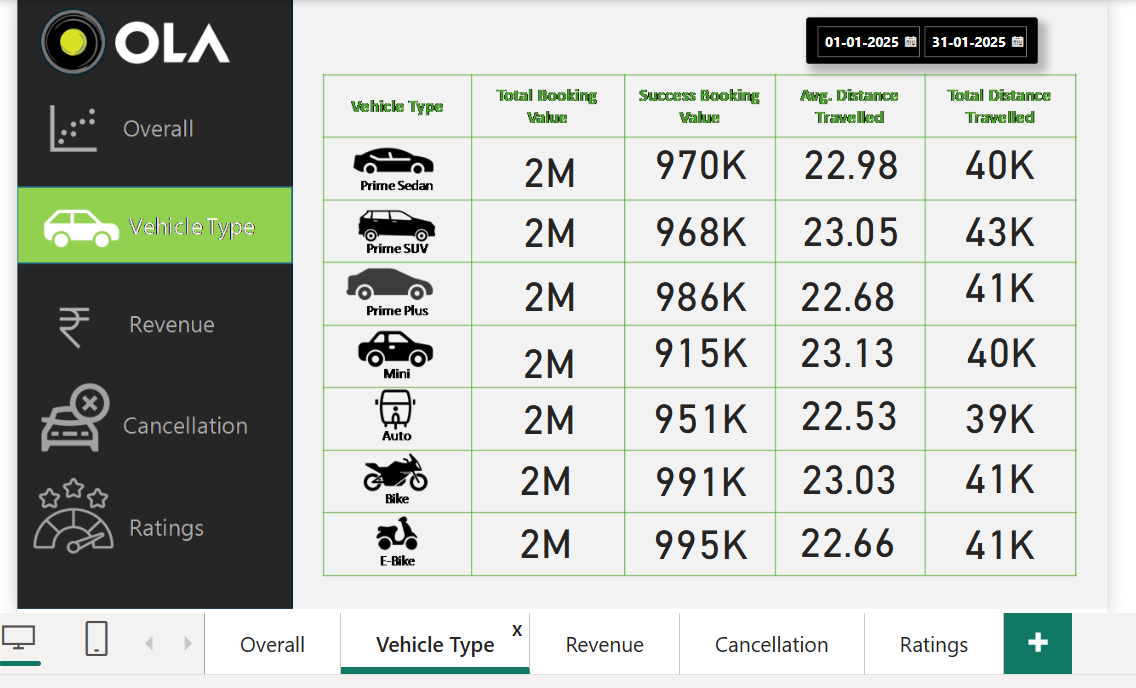

The dashboard page shown, as its layout file describes it:
{"tool":"powerbi","page":{"name":"Vehicle Type","canvas":[1280,720],"ordinal":1},"visuals":[{"type":"actionButton","box":[0,106.9,324.9,90.5],"z":0},{"type":"actionButton","box":[0,341.3,324.9,90.5],"z":1000},{"type":"actionButton","box":[0,446.2,324.9,90.5],"z":2000},{"type":"actionButton","box":[0,565.5,324.9,90.5],"z":3000},{"type":"card","fields":{"Values":["Sum(January.Booking_Value)"]},"box":[544,164,162,66],"z":4000},{"type":"card","fields":{"Values":["Sum(January.Booking_Value)"]},"box":[544,244,162,66],"z":5000},{"type":"card","fields":{"Values":["Sum(January.Booking_Value)"]},"box":[544,320,162,66],"z":6000},{"type":"card","fields":{"Values":["Sum(January.Booking_Value)"]},"box":[550,398,152,66],"z":7000},{"type":"card","fields":{"Values":["Sum(January.Booking_Value)"]},"box":[544,536,152,66],"z":8000},{"type":"card","fields":{"Values":["Sum(January.Booking_Value)"]},"box":[544,610,152,66],"z":9000},{"type":"card","fields":{"Values":["Sum(January.Booking_Value)"]},"box":[550,464,152,66],"z":10000},{"type":"card","fields":{"Values":["Sum(January.Booking_Value)"]},"box":[734,166,138,64],"z":11000},{"type":"card","fields":{"Values":["Sum(January.Booking_Value)"]},"box":[734,386,138,64],"z":12000},{"type":"card","fields":{"Values":["Sum(January.Booking_Value)"]},"box":[734,464,138,64],"z":13000},{"type":"card","fields":{"Values":["Sum(January.Booking_Value)"]},"box":[734,538,138,64],"z":14000},{"type":"card","fields":{"Values":["Sum(January.Booking_Value)"]},"box":[734,612,138,64],"z":15000},{"type":"card","fields":{"Values":["Sum(January.Booking_Value)"]},"box":[734,320,138,64],"z":16000},{"type":"card","fields":{"Values":["Sum(January.Booking_Value)"]},"box":[734,244,138,64],"z":17000},{"type":"card","fields":{"Values":["Avg(January.Ride_Distance)"]},"box":[904,320,142,64],"z":18000},{"type":"card","fields":{"Values":["Avg(January.Ride_Distance)"]},"box":[904,386,142,64],"z":19000},{"type":"card","fields":{"Values":["Avg(January.Ride_Distance)"]},"box":[906,460,142,64],"z":20000},{"type":"card","fields":{"Values":["Avg(January.Ride_Distance)"]},"box":[906,536,142,64],"z":21000},{"type":"card","fields":{"Values":["Avg(January.Ride_Distance)"]},"box":[904,610,142,64],"z":22000},{"type":"card","fields":{"Values":["Sum(January.Ride_Distance)"]},"box":[1084,166,142,64],"z":23000},{"type":"card","fields":{"Values":["Avg(January.Ride_Distance)"]},"box":[908,244,142,64],"z":24000},{"type":"card","fields":{"Values":["Avg(January.Ride_Distance)"]},"box":[908,166,142,64],"z":25000},{"type":"card","fields":{"Values":["Sum(January.Ride_Distance)"]},"box":[1084,310,142,64],"z":26000},{"type":"card","fields":{"Values":["Sum(January.Ride_Distance)"]},"box":[1086,386,142,64],"z":27000},{"type":"card","fields":{"Values":["Sum(January.Ride_Distance)"]},"box":[1084,464,142,64],"z":28000},{"type":"card","fields":{"Values":["Sum(January.Ride_Distance)"]},"box":[1084,534,142,64],"z":29000},{"type":"card","fields":{"Values":["Sum(January.Ride_Distance)"]},"box":[1084,612,142,64],"z":30000},{"type":"card","fields":{"Values":["Sum(January.Ride_Distance)"]},"box":[1084,244,142,64],"z":31000},{"type":"slicer","title":"DATE","fields":{"Values":["January.Date"]},"box":[928,20,272,54],"z":32000}]}

Visuals, with their boxes on the page's 1280x720 design canvas (x1, y1, x2, y2). These are canvas units, not pixel positions in the 1136x688 screenshot, which may show the page scaled, cropped or inside an application window:
actionButton: (x1=0, y1=107, x2=325, y2=197)
actionButton: (x1=0, y1=341, x2=325, y2=432)
actionButton: (x1=0, y1=446, x2=325, y2=537)
actionButton: (x1=0, y1=566, x2=325, y2=656)
card - Sum(January.Booking_Value): (x1=544, y1=164, x2=706, y2=230)
card - Sum(January.Booking_Value): (x1=544, y1=244, x2=706, y2=310)
card - Sum(January.Booking_Value): (x1=544, y1=320, x2=706, y2=386)
card - Sum(January.Booking_Value): (x1=550, y1=398, x2=702, y2=464)
card - Sum(January.Booking_Value): (x1=544, y1=536, x2=696, y2=602)
card - Sum(January.Booking_Value): (x1=544, y1=610, x2=696, y2=676)
card - Sum(January.Booking_Value): (x1=550, y1=464, x2=702, y2=530)
card - Sum(January.Booking_Value): (x1=734, y1=166, x2=872, y2=230)
card - Sum(January.Booking_Value): (x1=734, y1=386, x2=872, y2=450)
card - Sum(January.Booking_Value): (x1=734, y1=464, x2=872, y2=528)
card - Sum(January.Booking_Value): (x1=734, y1=538, x2=872, y2=602)
card - Sum(January.Booking_Value): (x1=734, y1=612, x2=872, y2=676)
card - Sum(January.Booking_Value): (x1=734, y1=320, x2=872, y2=384)
card - Sum(January.Booking_Value): (x1=734, y1=244, x2=872, y2=308)
card - Avg(January.Ride_Distance): (x1=904, y1=320, x2=1046, y2=384)
card - Avg(January.Ride_Distance): (x1=904, y1=386, x2=1046, y2=450)
card - Avg(January.Ride_Distance): (x1=906, y1=460, x2=1048, y2=524)
card - Avg(January.Ride_Distance): (x1=906, y1=536, x2=1048, y2=600)
card - Avg(January.Ride_Distance): (x1=904, y1=610, x2=1046, y2=674)
card - Sum(January.Ride_Distance): (x1=1084, y1=166, x2=1226, y2=230)
card - Avg(January.Ride_Distance): (x1=908, y1=244, x2=1050, y2=308)
card - Avg(January.Ride_Distance): (x1=908, y1=166, x2=1050, y2=230)
card - Sum(January.Ride_Distance): (x1=1084, y1=310, x2=1226, y2=374)
card - Sum(January.Ride_Distance): (x1=1086, y1=386, x2=1228, y2=450)
card - Sum(January.Ride_Distance): (x1=1084, y1=464, x2=1226, y2=528)
card - Sum(January.Ride_Distance): (x1=1084, y1=534, x2=1226, y2=598)
card - Sum(January.Ride_Distance): (x1=1084, y1=612, x2=1226, y2=676)
card - Sum(January.Ride_Distance): (x1=1084, y1=244, x2=1226, y2=308)
"DATE" slicer: (x1=928, y1=20, x2=1200, y2=74)
